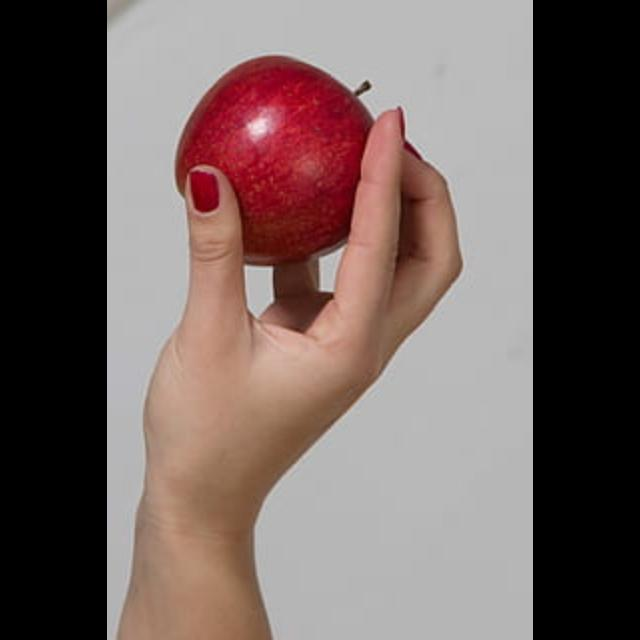Apel Segar: (168, 41, 408, 285)
